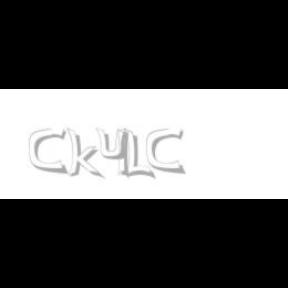C: (146, 128, 183, 174), (30, 128, 66, 174)
L: (124, 128, 152, 180)
k: (66, 128, 104, 180)
l: (117, 128, 133, 180)
u: (96, 128, 130, 160)
